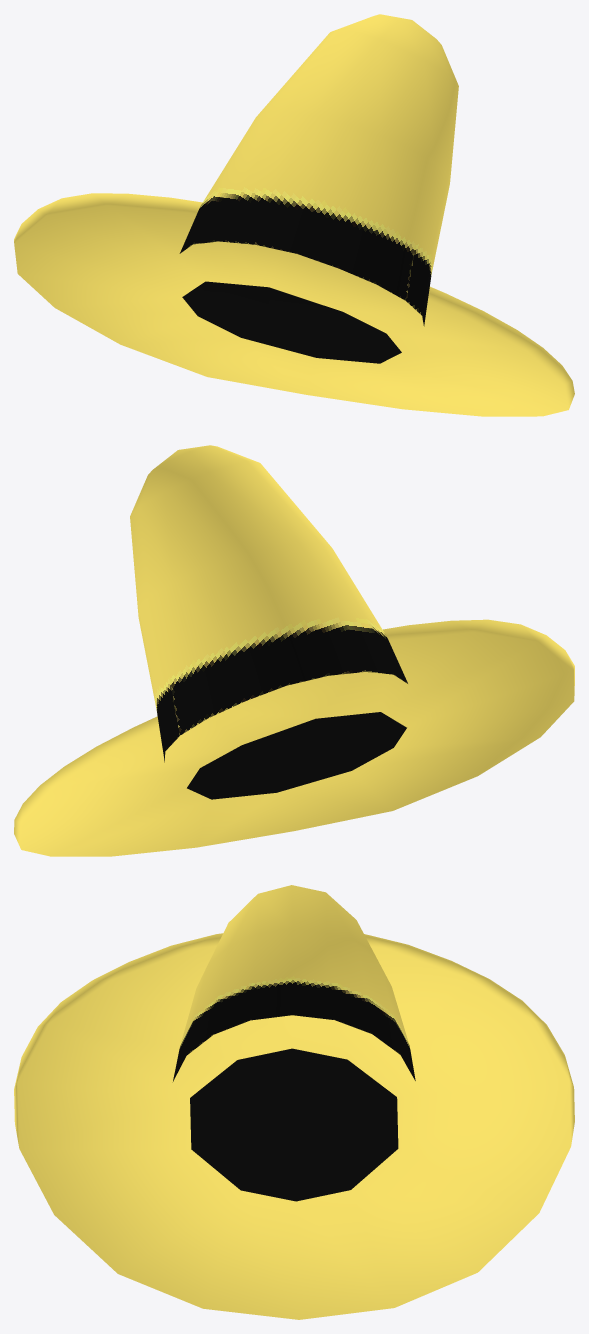
The model's file is ps2_save-icons_curiousgeorge.glb.
3 views of the same model, one above another, from view 1: azimuth 30°, elevation 25°; view 2: azimuth 150°, elevation 25°; view 3: azimuth 270°, elevation 25° (orthographic). The views are drawn at different scales.
Visible parts, largest first — view 1: icon.ico; view 2: icon.ico; view 3: icon.ico.
Part boxes in pixels (x1,y1,x2,y2): icon.ico: (14, 14, 574, 416); icon.ico: (14, 445, 574, 856); icon.ico: (14, 885, 574, 1319).
Size of the model in its own units: 3.75 by 2.75 by 3.92.
1 material, 1 textured.
